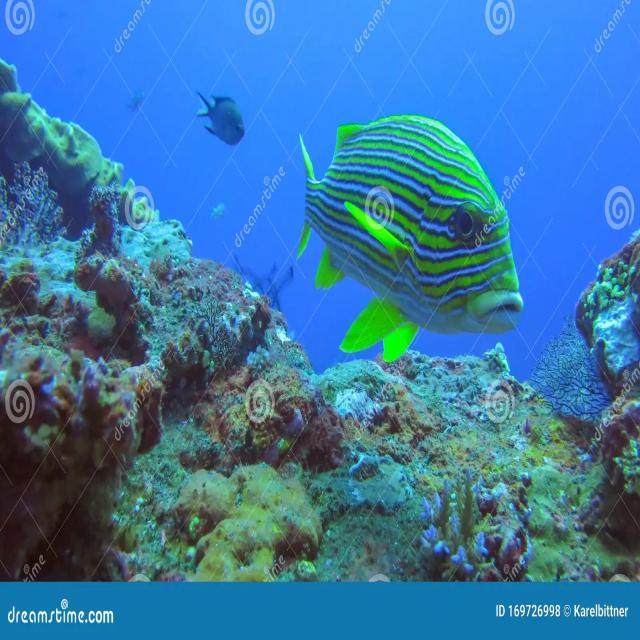RibbonedSweetlips: (295, 111, 524, 364)
